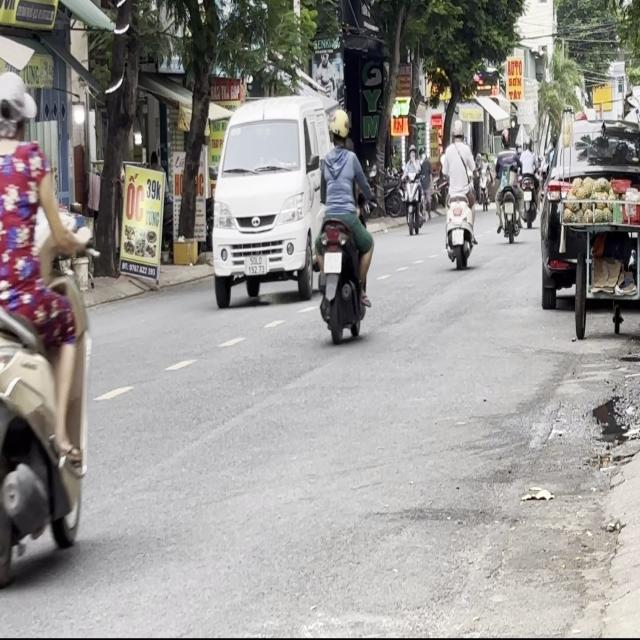helmet: (328, 109, 350, 145)
licenseplate: (0, 60, 96, 592), (313, 107, 374, 342)
motorcyclist: (0, 69, 36, 144)
nohelmet: (324, 250, 341, 272)
